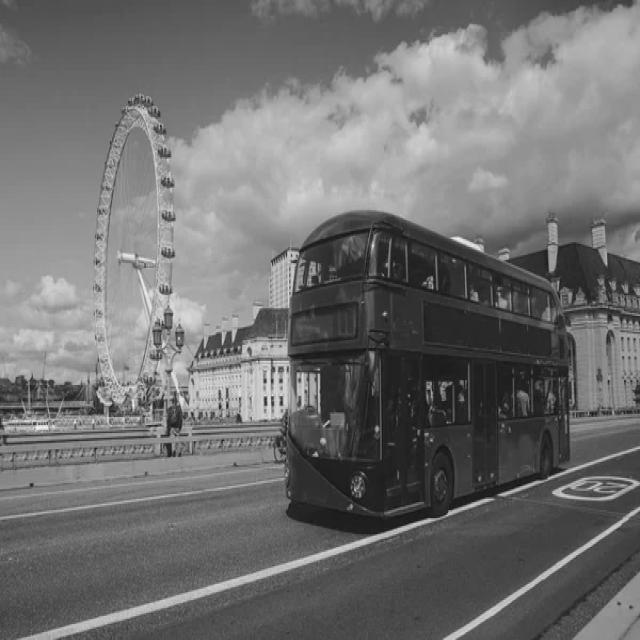Bus: (286, 212, 571, 517)
